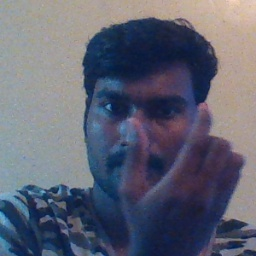U: (115, 102, 245, 244)
